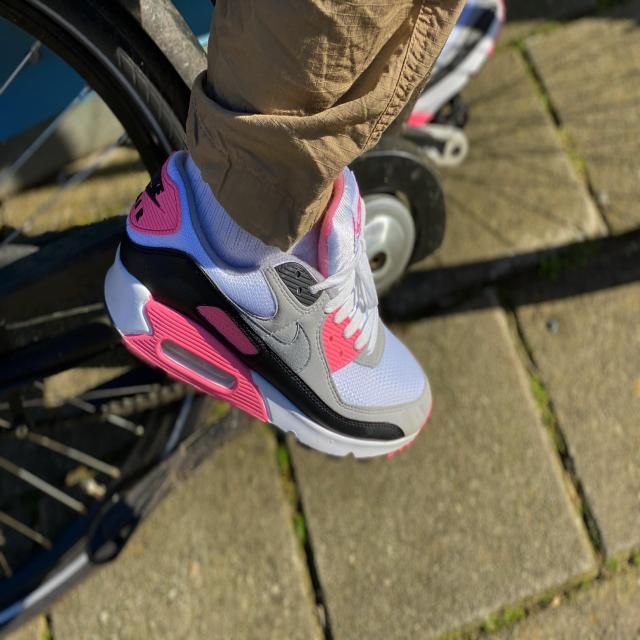shoe: (95, 101, 438, 464)
